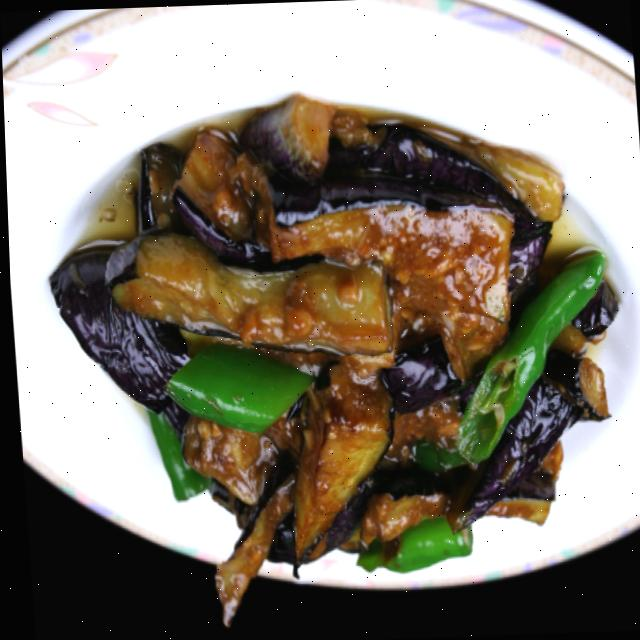鸡蛋料理: (24, 85, 636, 608)
